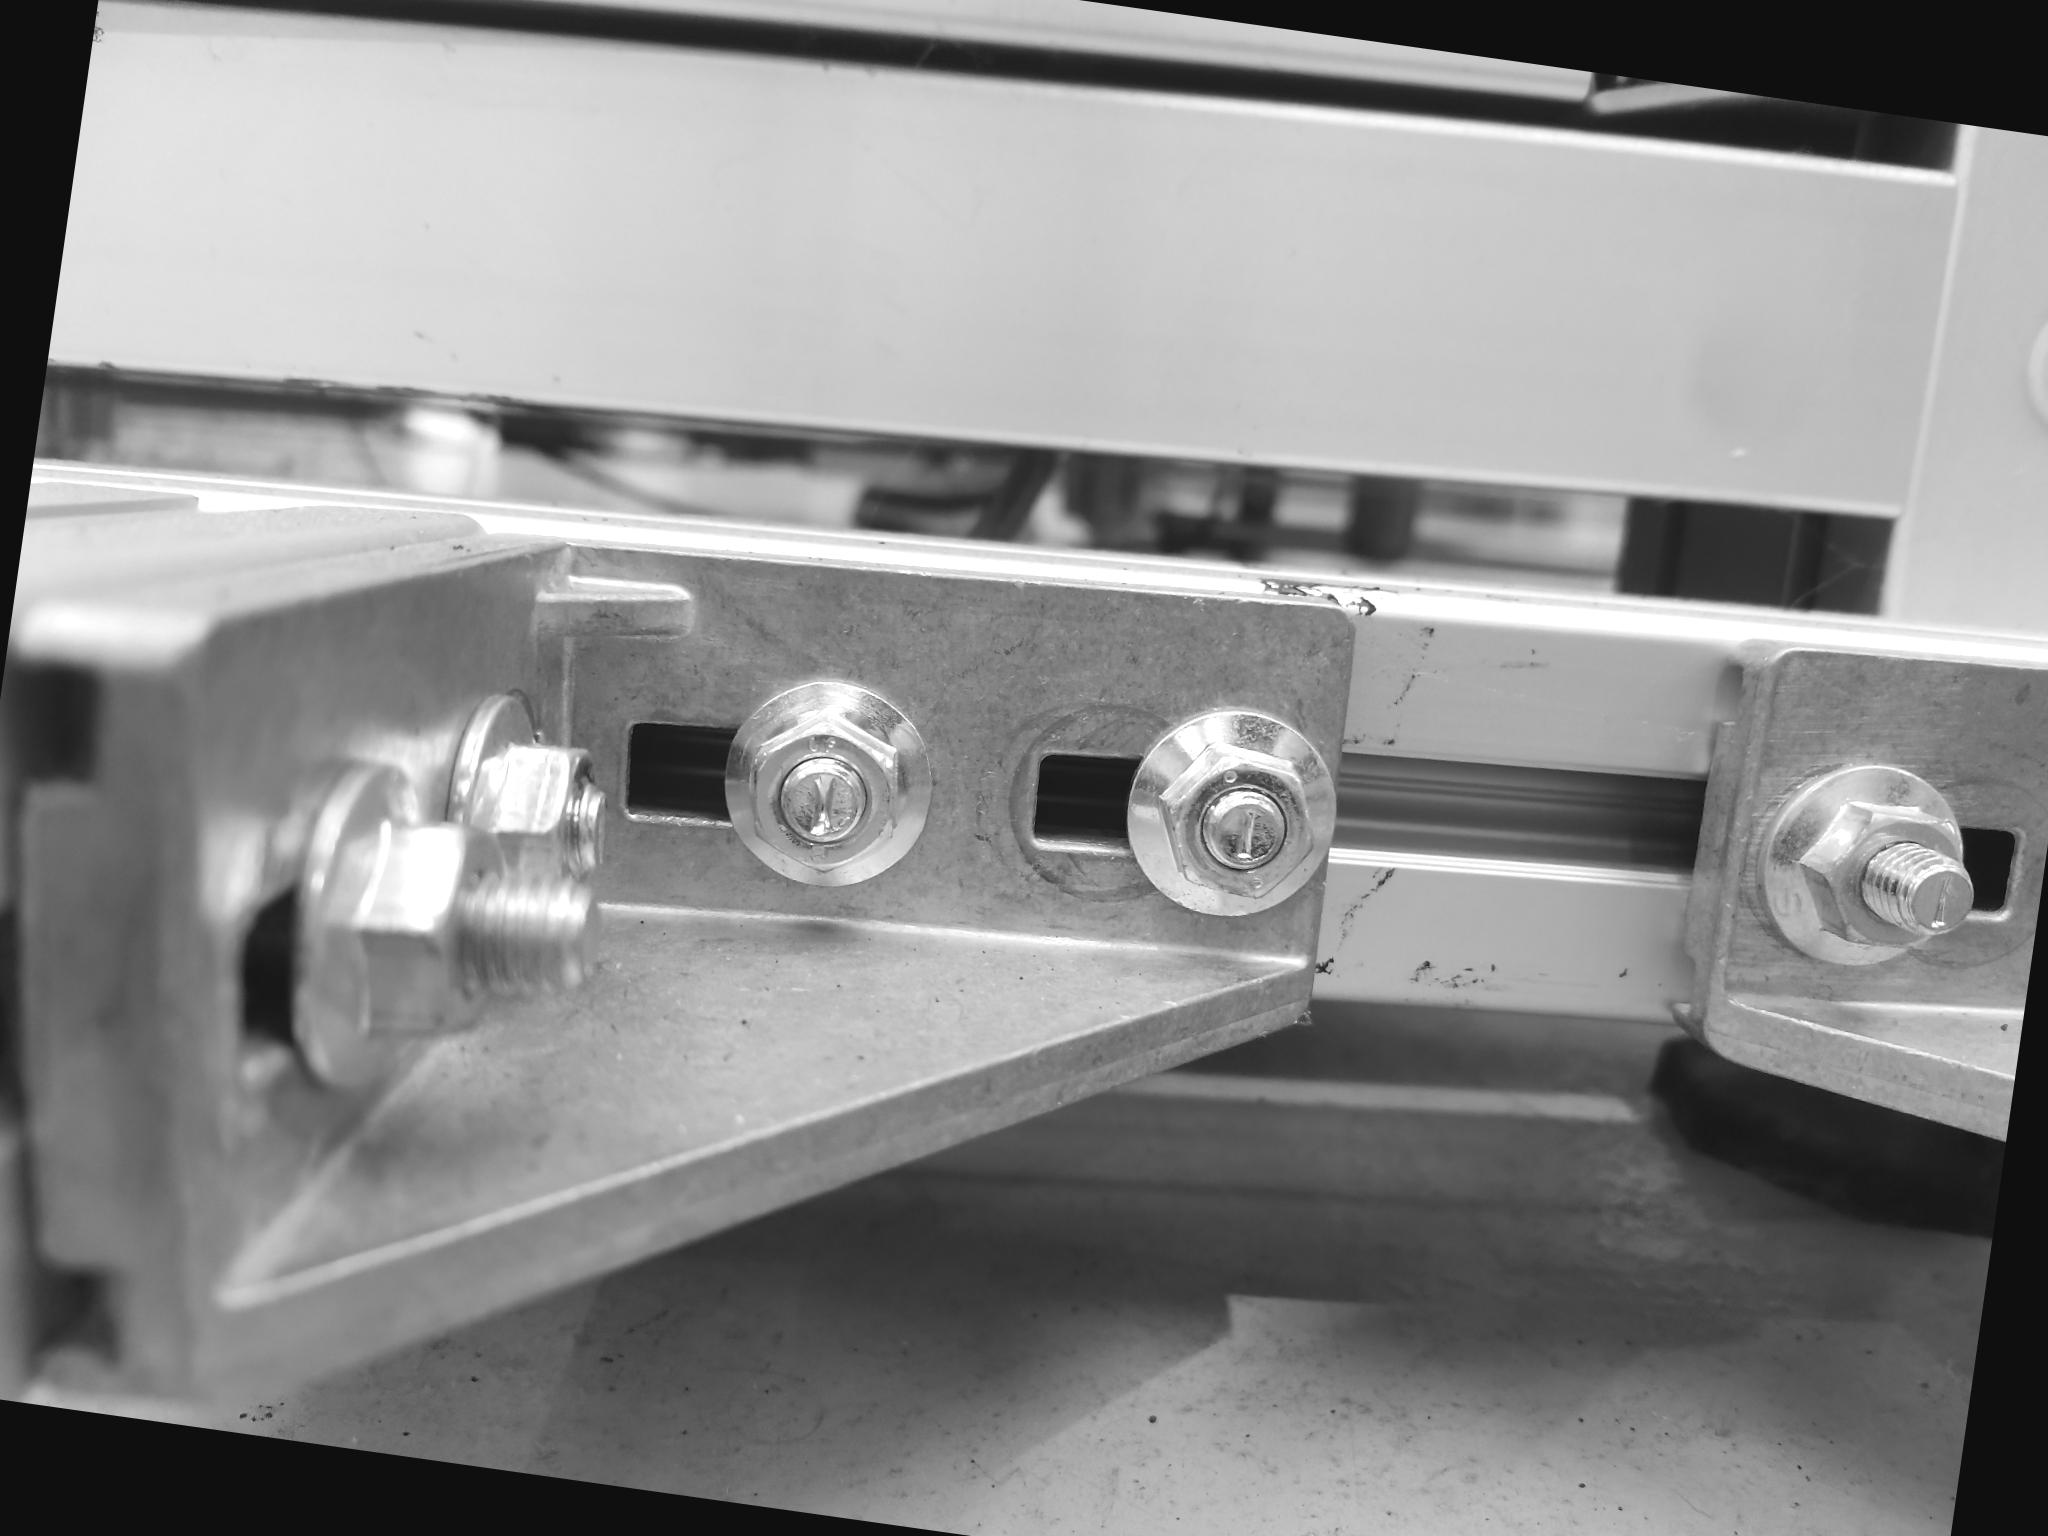screw: (1742, 749, 1992, 992), (705, 671, 953, 905), (1108, 700, 1353, 931)
